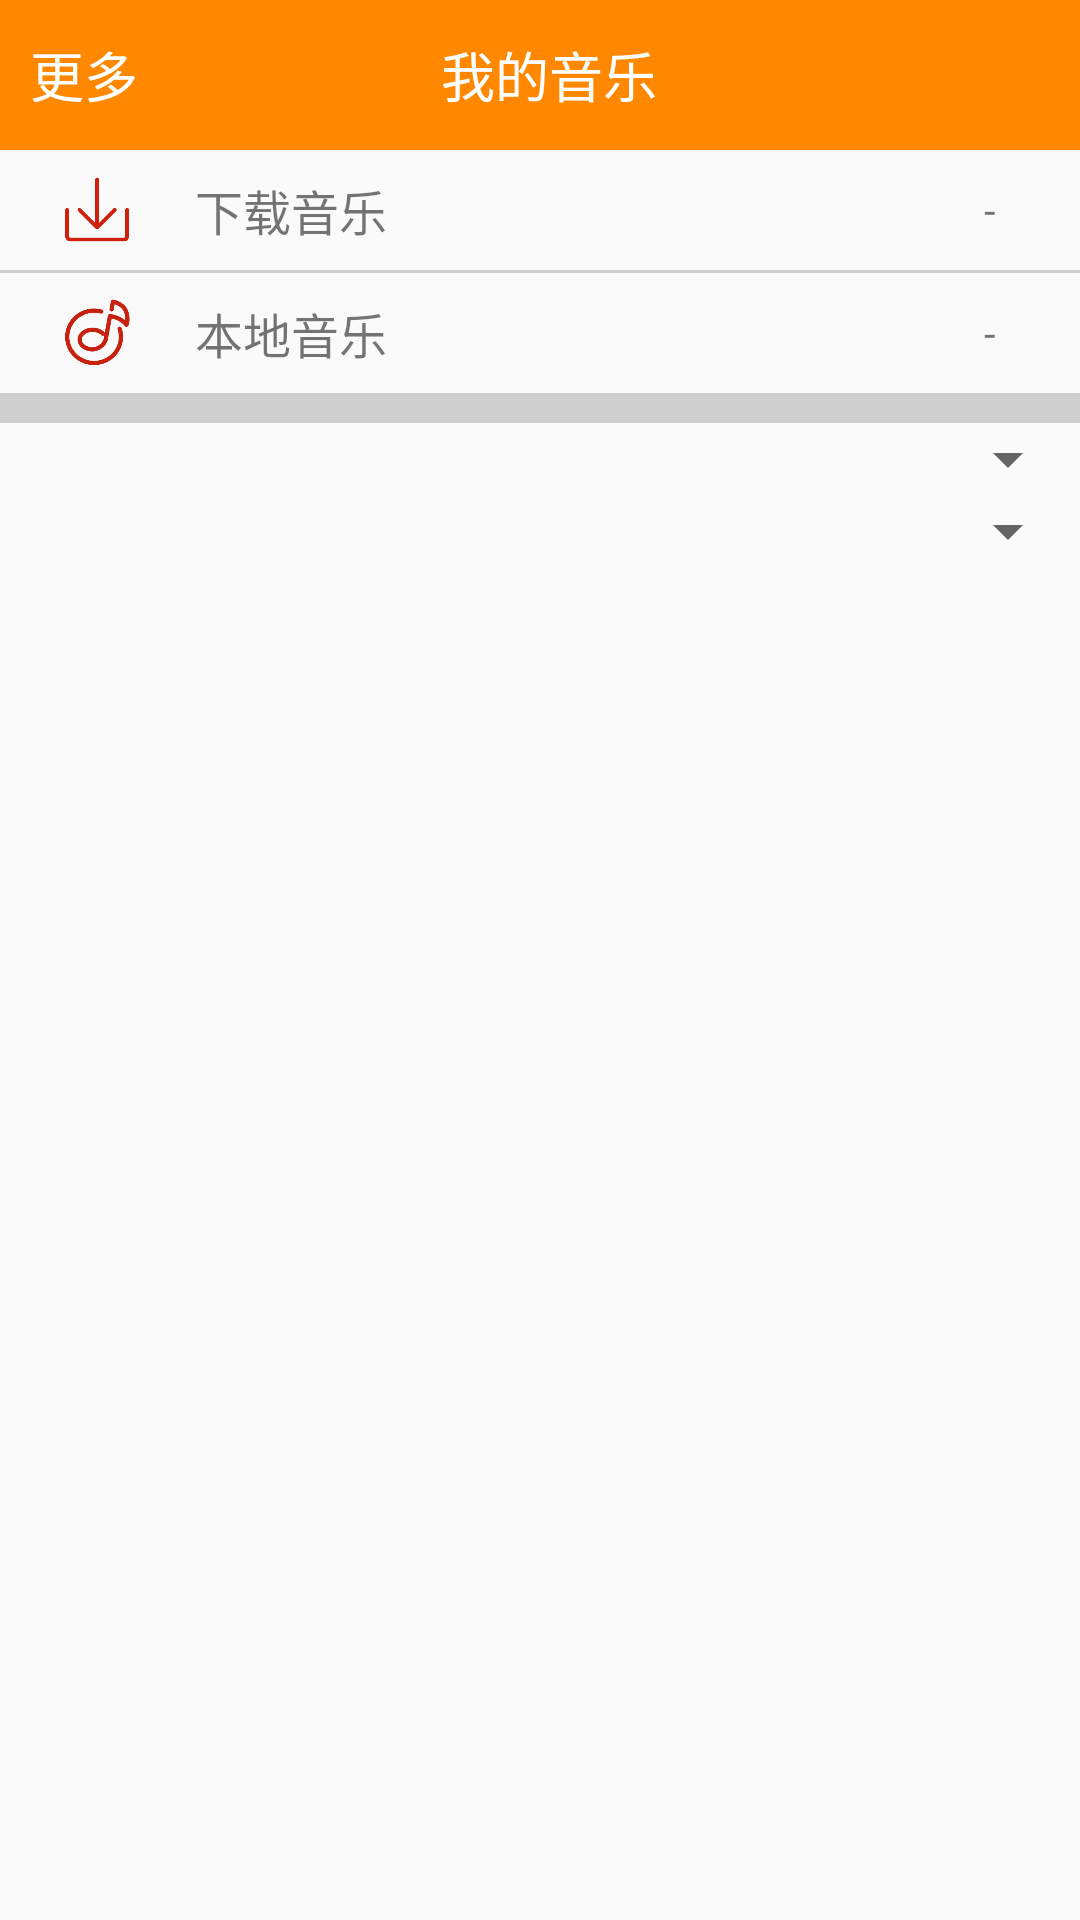

Named icons in this screenshot (1080px×1920px) and their bounding boxes, (x1, y1, x2, y2):
download: (65, 177, 129, 242)
local music: (65, 299, 130, 365)
